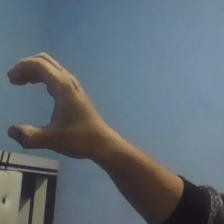C: (4, 52, 96, 162)
